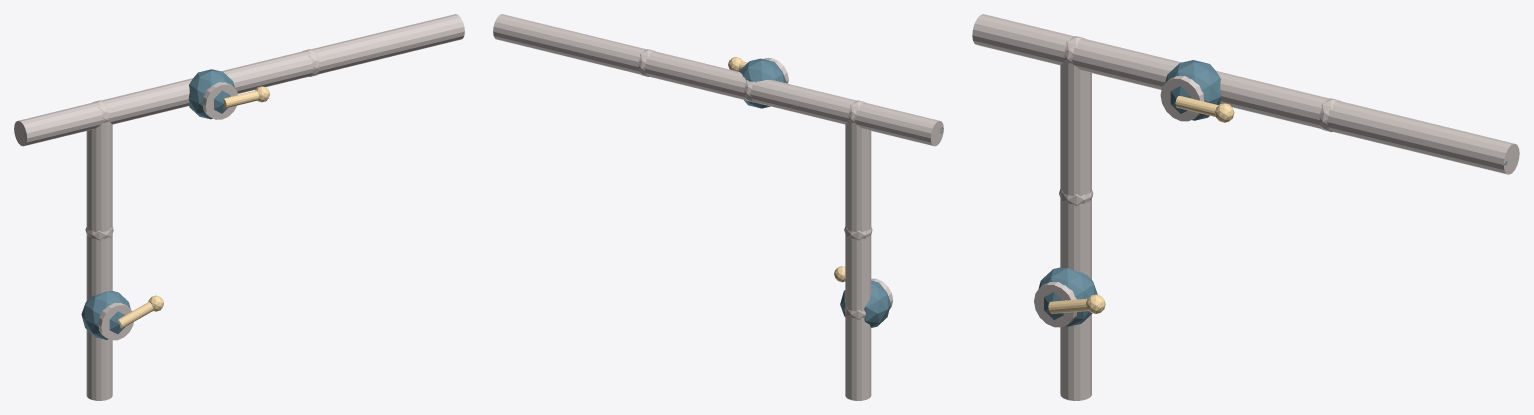
The model's file is plant-11-0.glb.
3 renders of one model, left to right at view 1: azimuth 30°, elevation 25°; view 2: azimuth 150°, elevation 25°; view 3: azimuth 330°, elevation 25°, orthographic. The views are drawn at different scales.
Parts seen in each view (by area): view 1: pipe, dark, handle; view 2: pipe, dark; view 3: pipe, dark, handle.
Boxes of the visible parts, x1,y1,x2,y2 form: pipe: (14, 14, 464, 400); dark: (23, 69, 234, 339); handle: (118, 86, 269, 328); pipe: (493, 14, 943, 400); dark: (739, 58, 943, 327); pipe: (972, 14, 1519, 400); dark: (1038, 60, 1507, 326); handle: (1048, 96, 1234, 313).
Size of the model in its own units: 2.77 by 1.84 by 0.343.
